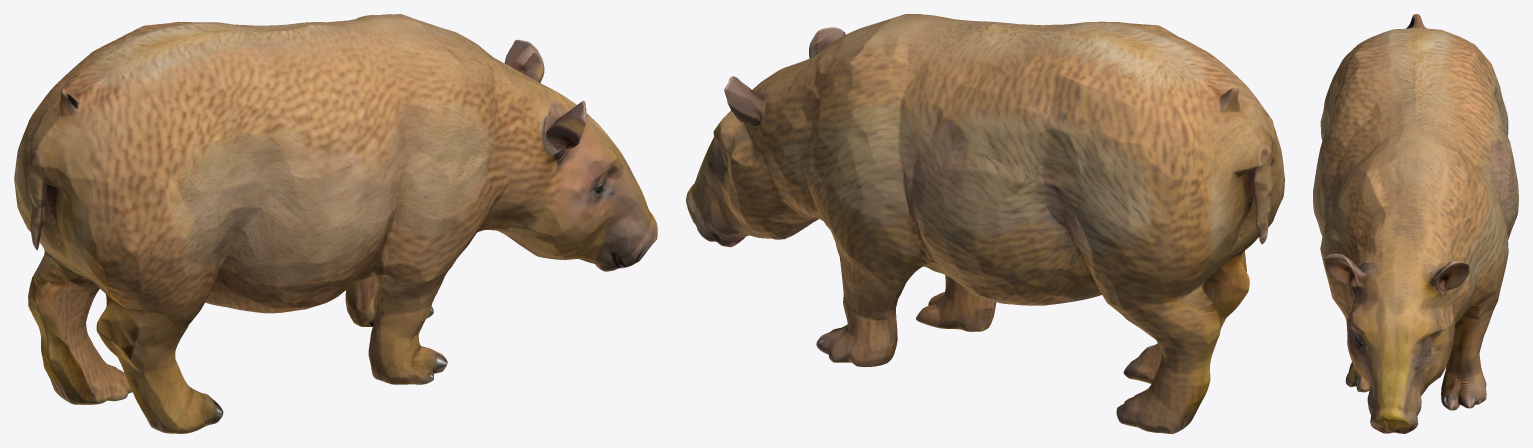
Rendered from game.glb.
3 views of the same model, side by side, from view 1: azimuth 30°, elevation 25°; view 2: azimuth 150°, elevation 25°; view 3: azimuth 270°, elevation 25° (orthographic). The views are drawn at different scales.
Size of the model in its own units: 2 by 1.13 by 0.7799.
1 material, 1 textured.
